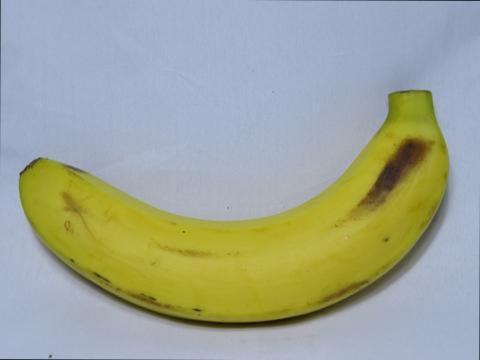freshripe: (11, 80, 459, 330)
